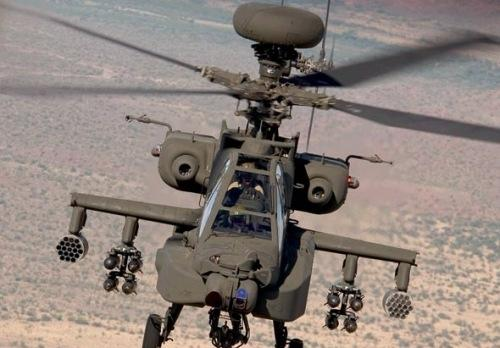airplane: (59, 1, 441, 345)
